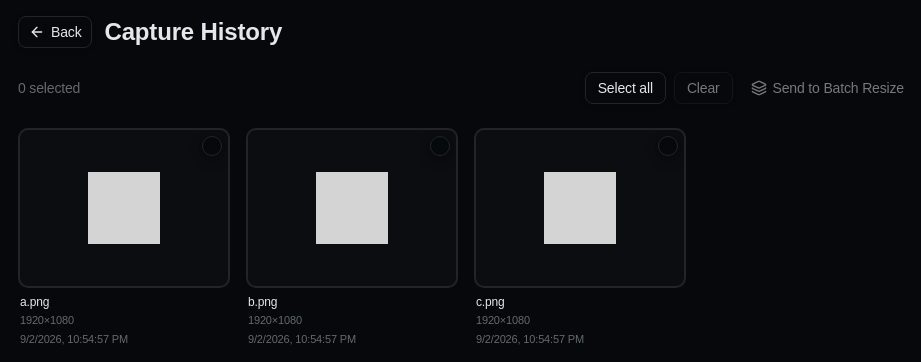
Scenario: CaptureHistoryGallery — multi-select › select-all selects every capture and reflects the count
Click the button "Select all": (625, 88) x1=585 y1=72 x2=666 y2=104
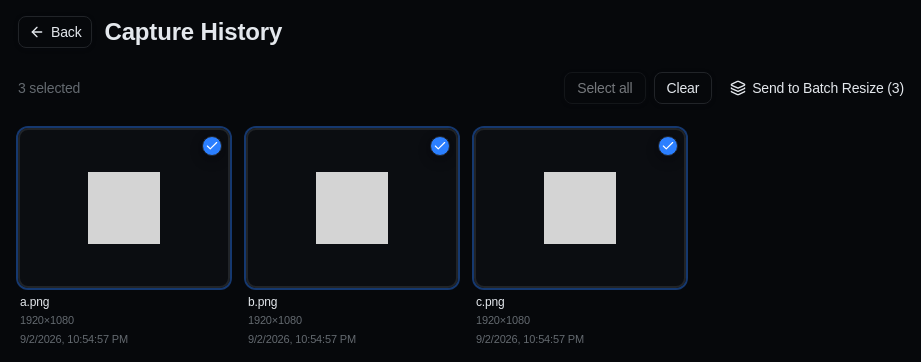
expect the text with test id "selection-count" reads "3 selected": met, box x1=18 y1=78 x2=80 y2=98
expect the button "Select all" is disabled: met, box x1=564 y1=72 x2=646 y2=104
